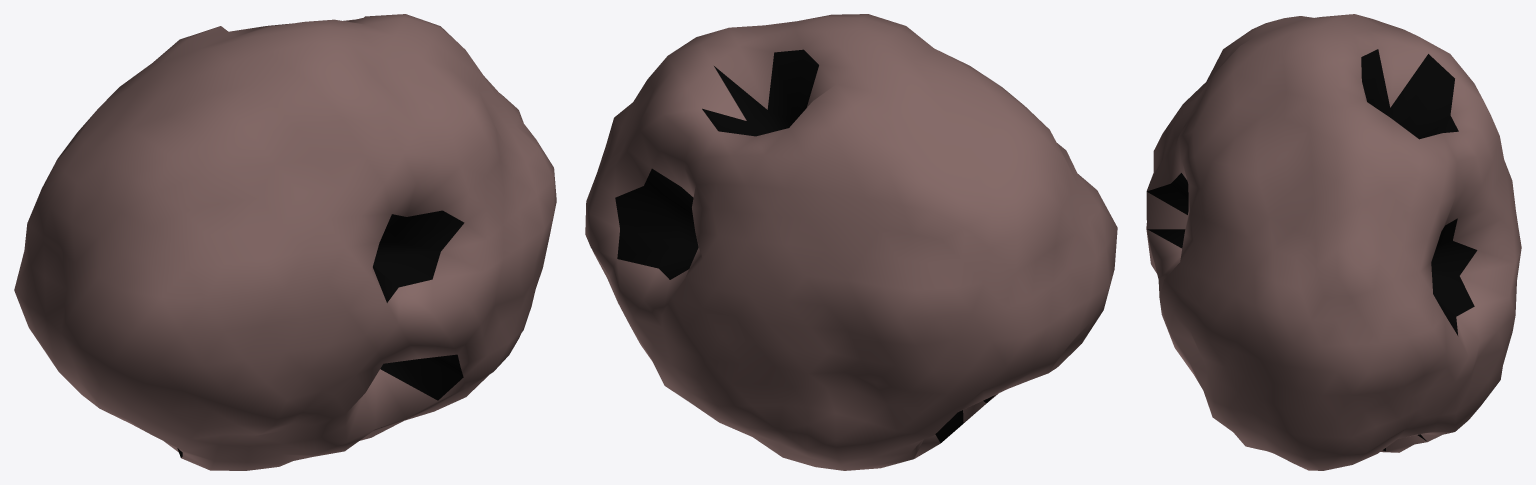
Rendered from asteroid_med_23.glb.
The picture shows the model from 3 angles, left to right: view 1: azimuth 30°, elevation 25°; view 2: azimuth 150°, elevation 25°; view 3: azimuth 270°, elevation 25°; orthographic projection. The views are drawn at different scales.
Visible parts, largest first — view 1: asteroid_med_23; view 2: asteroid_med_23; view 3: asteroid_med_23.
Part boxes in pixels (x1,y1,x2,y2): asteroid_med_23: (14, 14, 556, 470); asteroid_med_23: (585, 14, 1117, 470); asteroid_med_23: (1146, 14, 1521, 470).
Size of the model in its own units: 1.7 by 1.41 by 1.17.
